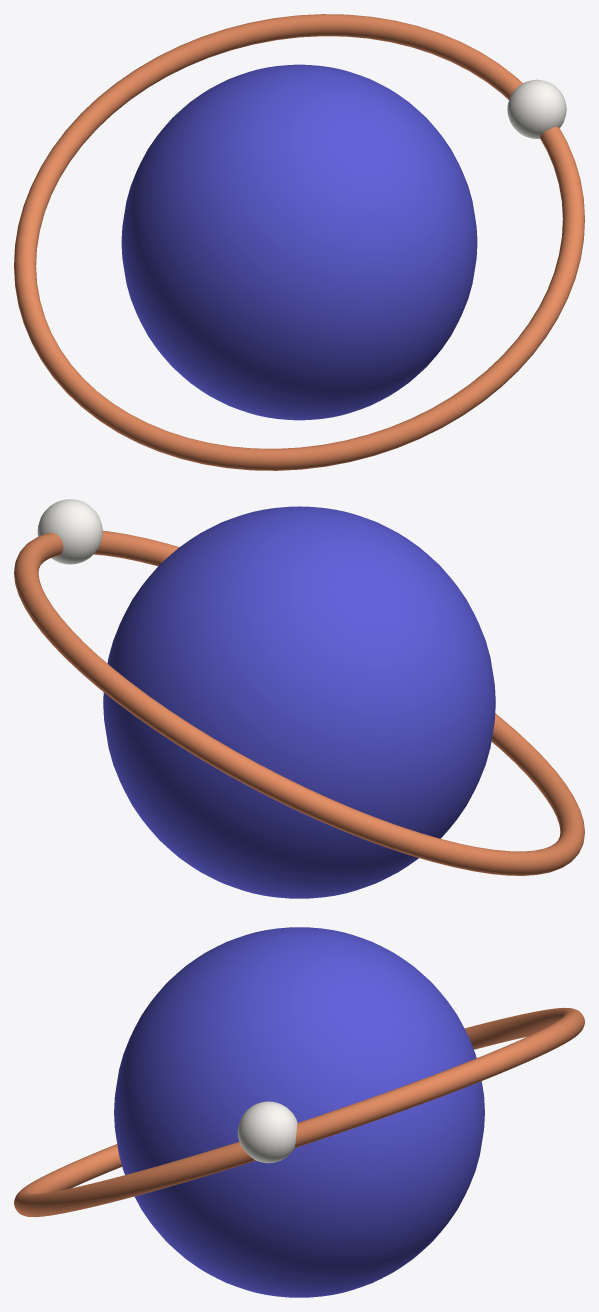
The model's file is orb.glb.
3 views of the same model, one above another, from view 1: azimuth 30°, elevation 25°; view 2: azimuth 150°, elevation 25°; view 3: azimuth 270°, elevation 25° (orthographic). The views are drawn at different scales.
Visible parts, largest first — view 1: orb; view 2: orb; view 3: orb.
Boxes of the visible parts, left/top/right/bottom form: orb: left=14, top=14, right=584, bottom=470; orb: left=14, top=499, right=584, bottom=898; orb: left=14, top=927, right=584, bottom=1297.
Size of the model in its own units: 2.26 by 1.44 by 2.22.
